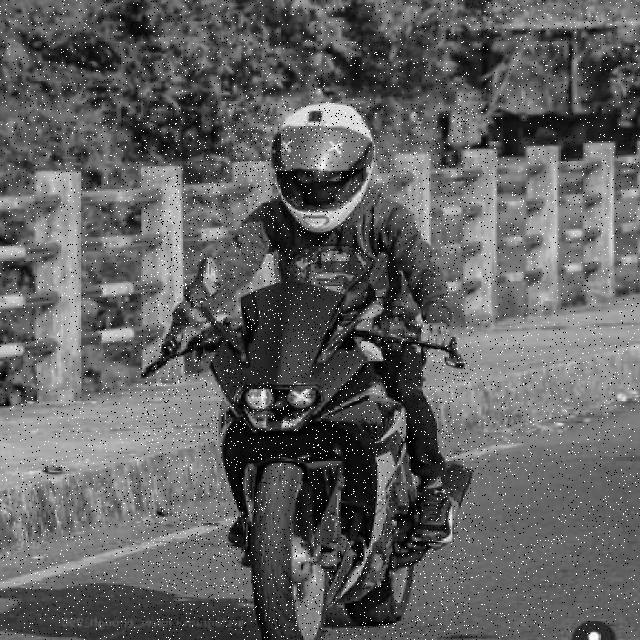Motorbike: (141, 104, 473, 640)
